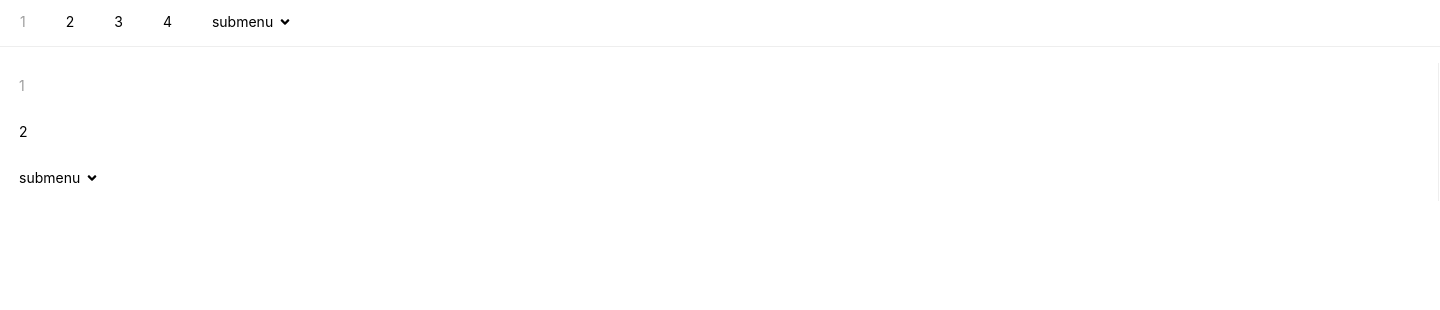
Scenario: test Menu, Submenu and MenuItem component › should display vertical submenu properly
Click the 2nd element with class "wing-submenu-title" at (60, 178), box [19, 169, 100, 186]
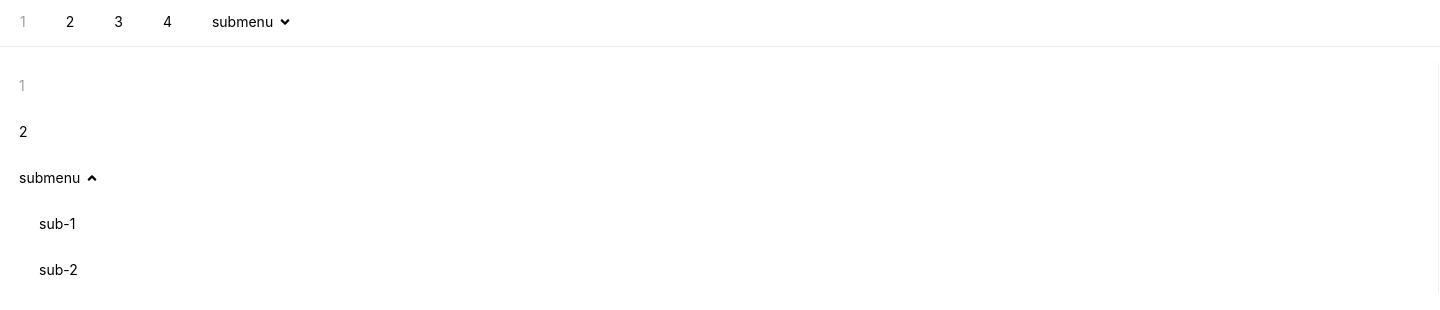
Now the list with class "wing-submenu-content" is shown, box [39, 215, 78, 278]
Click the 2nd element with class "wing-submenu-title" at (60, 178), box [19, 169, 100, 186]
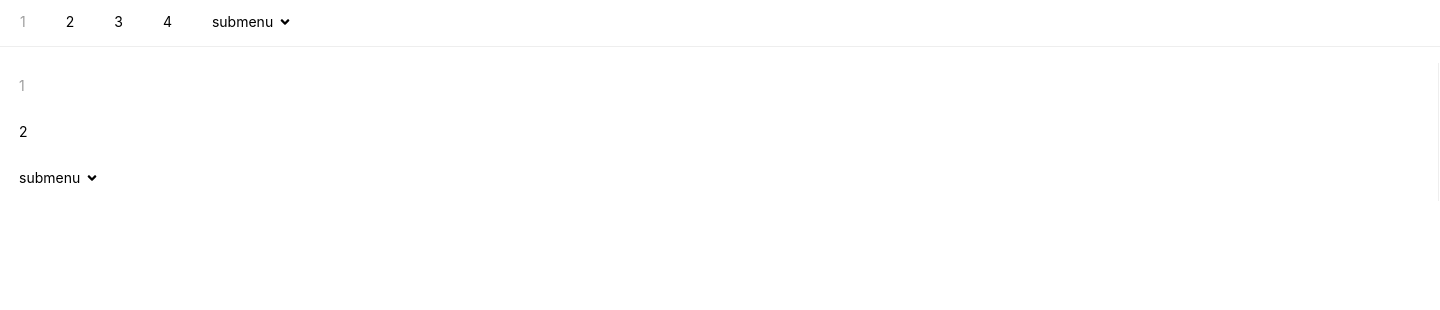
Now the list with class "wing-submenu-content" is gone
